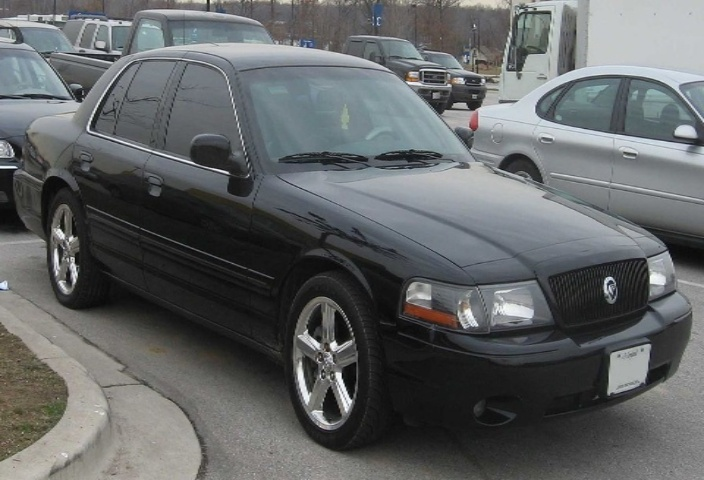camper: (34, 7, 291, 128), (325, 24, 450, 118), (416, 47, 487, 109)
car: (14, 31, 697, 450), (461, 55, 704, 242)
truck: (492, 1, 704, 131)
